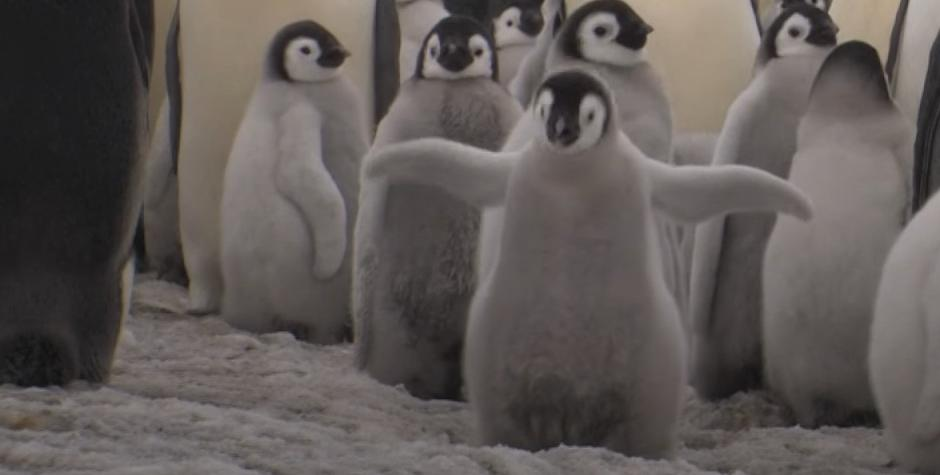Emperor Penguin: (364, 71, 820, 445), (204, 18, 362, 320), (862, 94, 940, 469), (402, 0, 572, 45), (912, 0, 940, 227), (166, 0, 397, 24), (0, 0, 154, 33), (654, 0, 846, 1)
